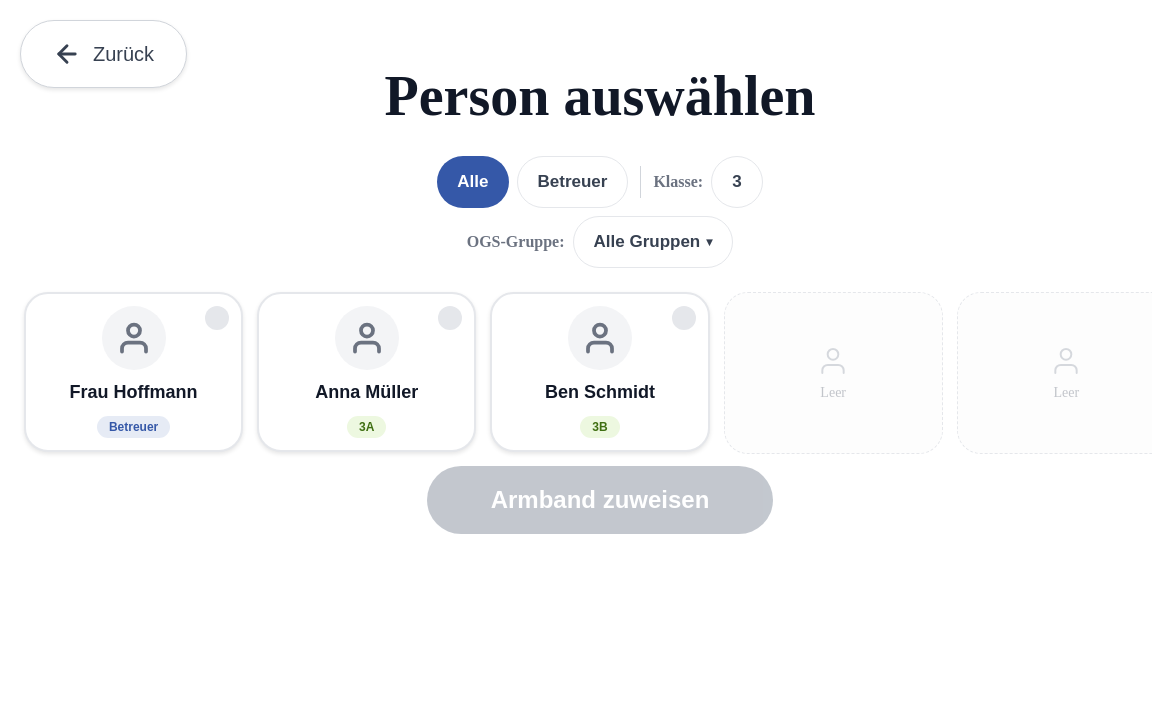
StudentSelectionPage › deselects staff toggle when clicked again
Expected: the text "Anna Müller" is shown, x1=315 y1=382 x2=418 y2=404
# Toggle on
Click the button "Betreuer": (572, 182) x1=516 y1=156 x2=628 y2=208
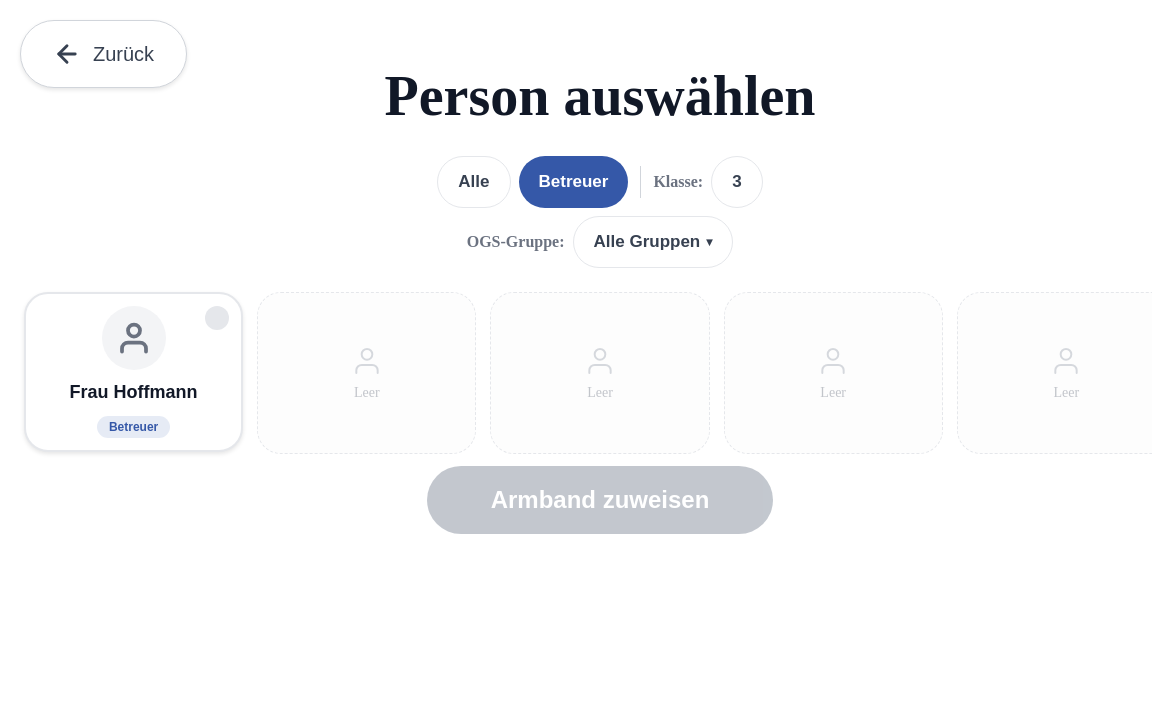
Expected: the button "Anna Müller" is gone
# Toggle off — click "Betreuer" chip again
Click the button "Betreuer": (573, 182) x1=518 y1=156 x2=628 y2=208
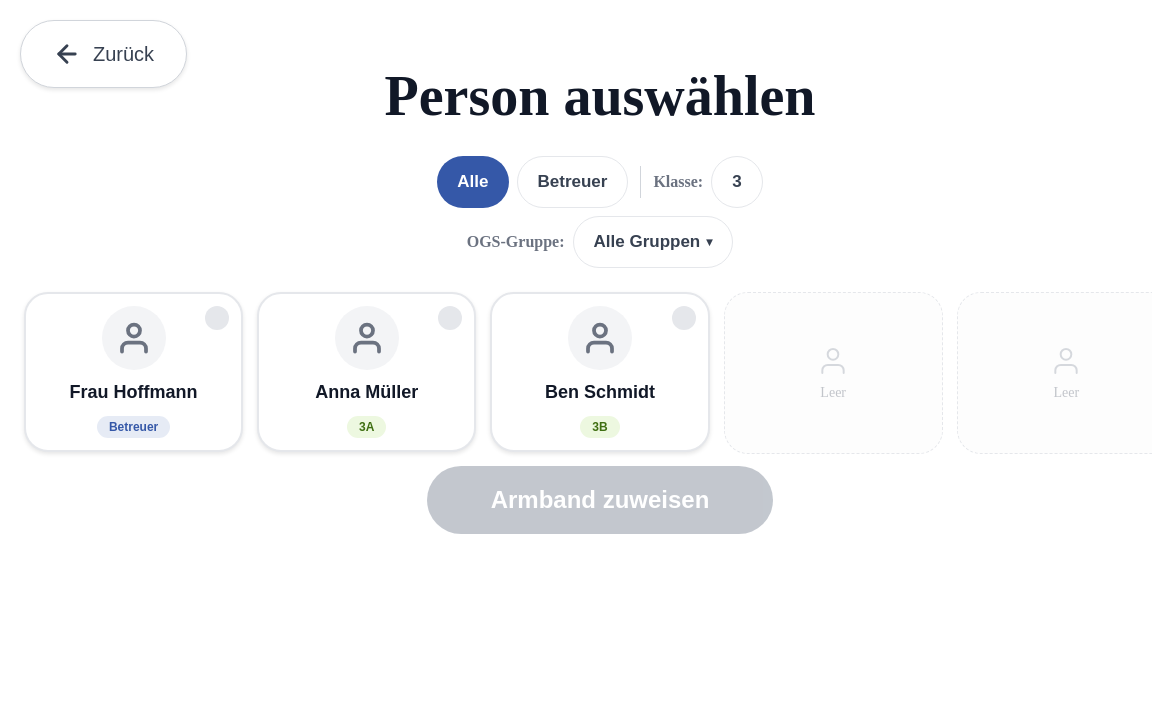
Expected: the text "Anna Müller" is shown, x1=315 y1=382 x2=418 y2=404
